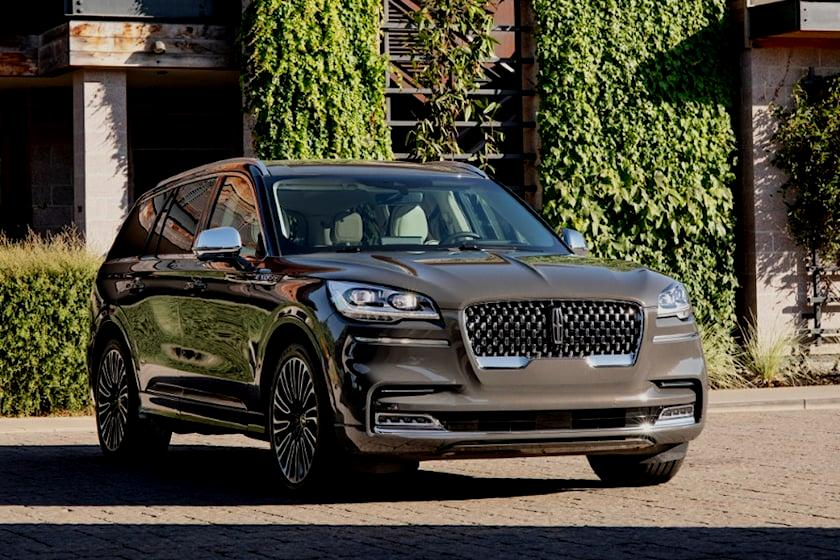lincoln: (547, 302, 571, 351)
